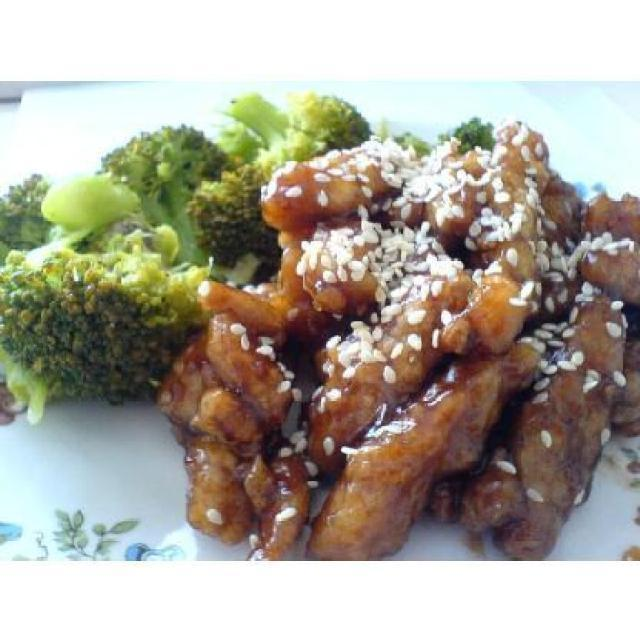Broccoli: (0, 88, 495, 422)
